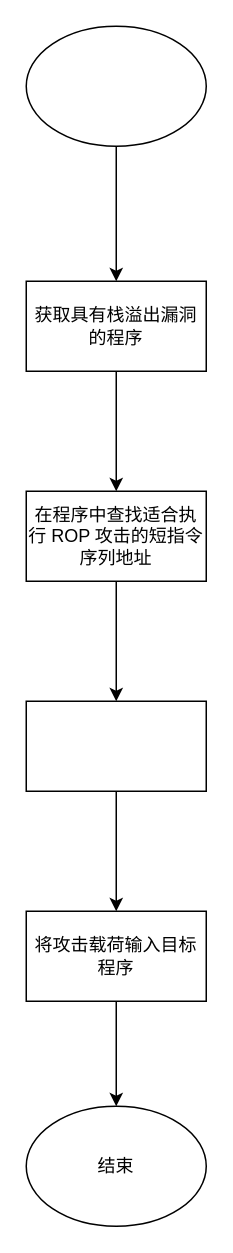
This 233x1253 diagram has some shape labels left out. Here are the shapes that lost their labels. From the top down, the centre of each, then its label:
[115,85]: 开始
[115,745]: 利用这些短指令序列组合形成攻击载荷
